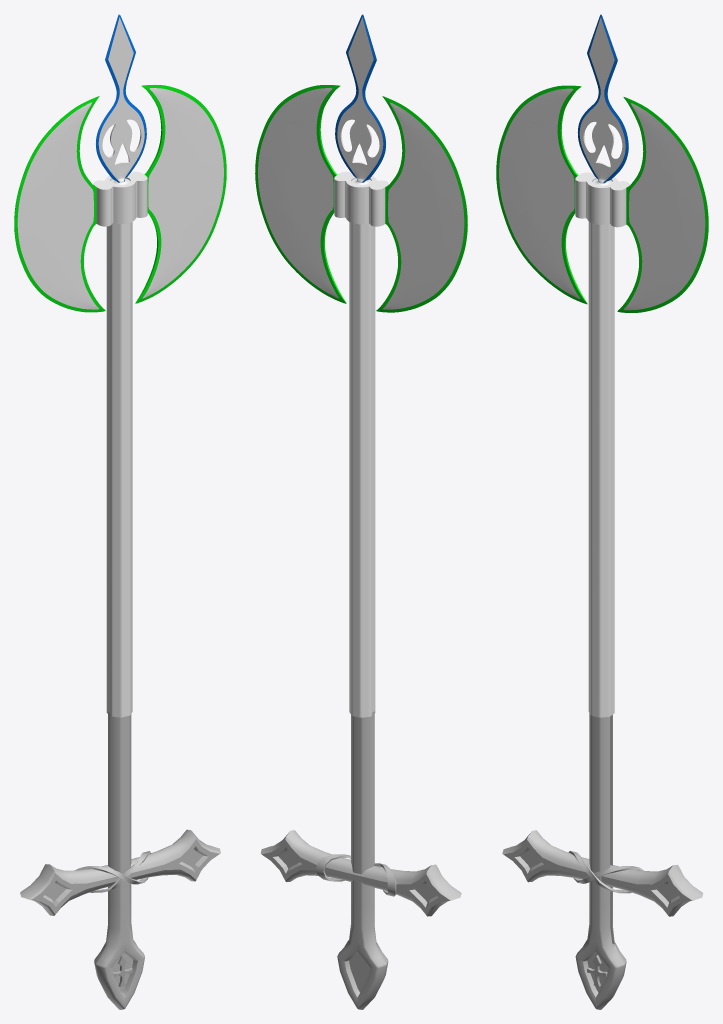
The model's file is axe.fbx.
The picture shows the model from 3 angles, left to right: view 1: azimuth 30°, elevation 25°; view 2: azimuth 150°, elevation 25°; view 3: azimuth 330°, elevation 25°; orthographic projection.
Parts seen in each view (by area): view 1: AXE_Final.001, AXE_Final.002, vertical_low, horizontal_low, det_low; view 2: AXE_Final.001, AXE_Final.002, vertical_low, horizontal_low, det_low; view 3: AXE_Final.001, AXE_Final.002, vertical_low, horizontal_low, det_low.
Boxes of the visible parts, bbox=[...] form: AXE_Final.001: bbox=[14, 84, 226, 312]; AXE_Final.002: bbox=[96, 14, 146, 717]; vertical_low: bbox=[94, 711, 144, 1009]; horizontal_low: bbox=[20, 829, 220, 915]; det_low: bbox=[75, 851, 150, 892]; AXE_Final.001: bbox=[255, 85, 467, 312]; AXE_Final.002: bbox=[335, 14, 386, 717]; vertical_low: bbox=[337, 711, 388, 1009]; horizontal_low: bbox=[260, 830, 461, 916]; det_low: bbox=[315, 854, 396, 896]; AXE_Final.001: bbox=[496, 85, 708, 312]; AXE_Final.002: bbox=[577, 14, 628, 717]; vertical_low: bbox=[575, 713, 626, 1009]; horizontal_low: bbox=[502, 830, 703, 916]; det_low: bbox=[568, 851, 643, 893].
Size of the model in its own units: 95.53 by 428 by 12.6.
